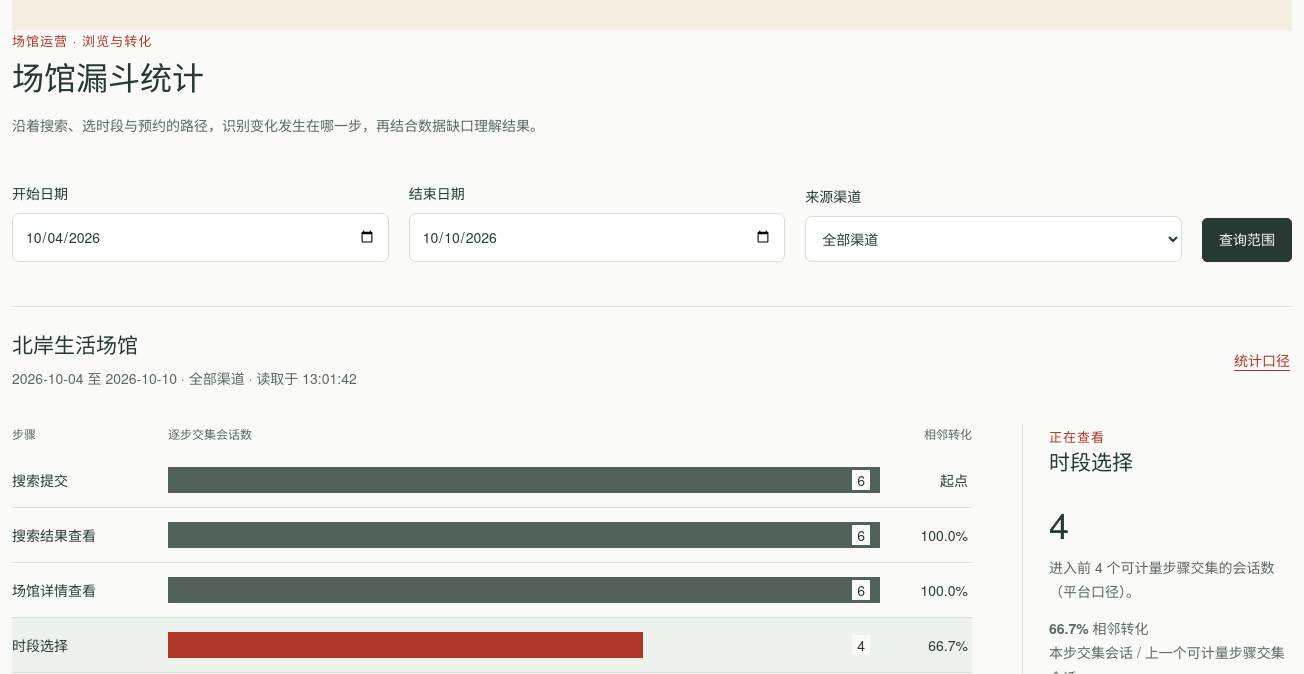
Scenario: 拾光场馆漏斗面 › opens on the first dropping step and follows the selection in the aside (B4-F1)
Check: the element with test id "f-step-detail" shows "时段选择", box left=1049, top=451, right=1133, bottom=474
Click the button with test id "f-step-0" at coordinates (492, 481), box left=12, top=453, right=972, bottom=508
(page scrolled)
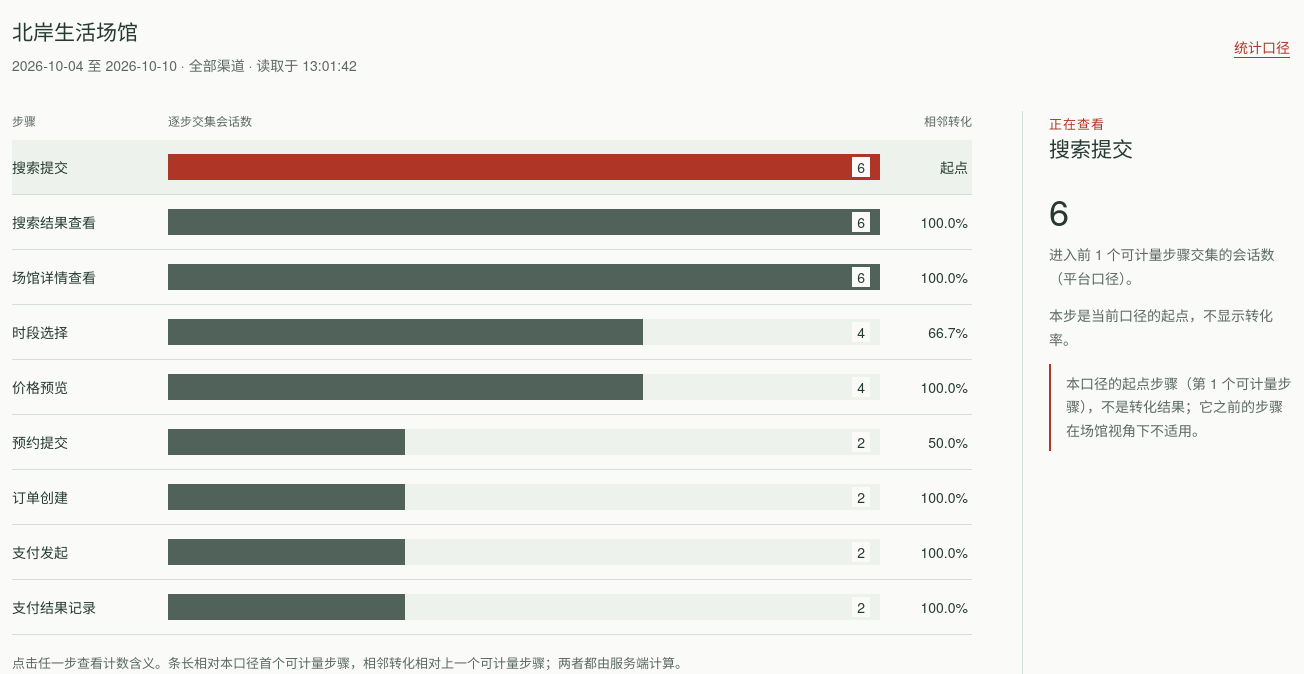
Check: the element with test id "f-step-detail" shows "搜索提交", box left=1049, top=138, right=1133, bottom=161
Check: the element with test id "f-step-detail" shows "本步是当前口径的起点，不显示转化率", box left=1049, top=305, right=1273, bottom=349
